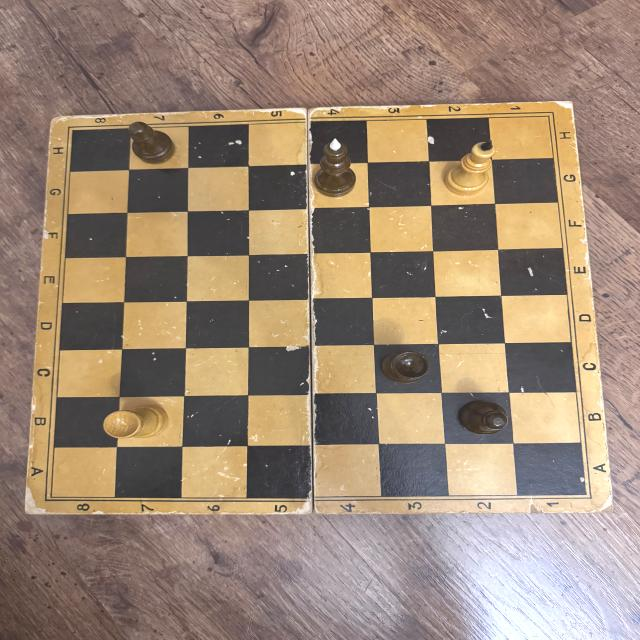black-king: (314, 138, 356, 198)
black-pawn: (127, 121, 177, 164), (457, 399, 510, 436)
black-rook: (376, 347, 436, 388)
white-king: (444, 140, 494, 196)
white-rook: (103, 404, 170, 440)
